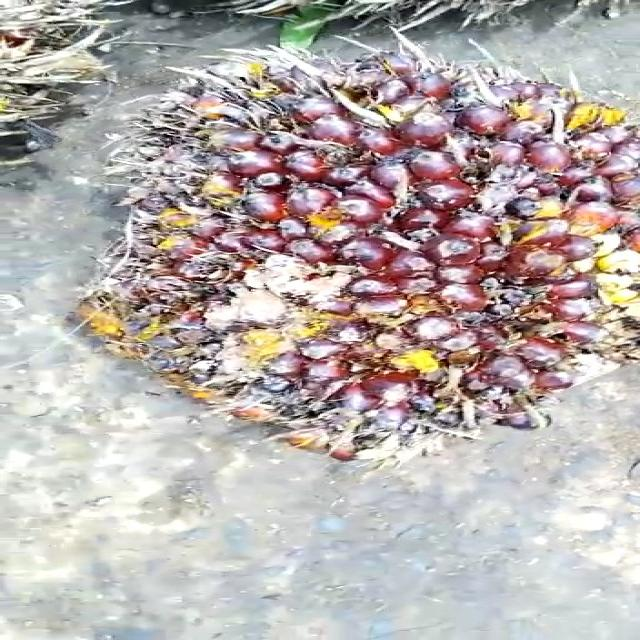palm oil: (83, 24, 640, 464)
